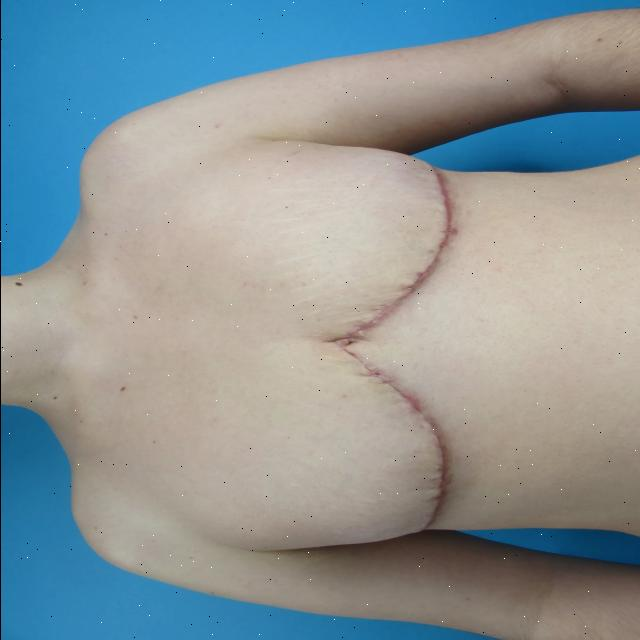Seno herido: (256, 140, 476, 340), (258, 346, 477, 546)
